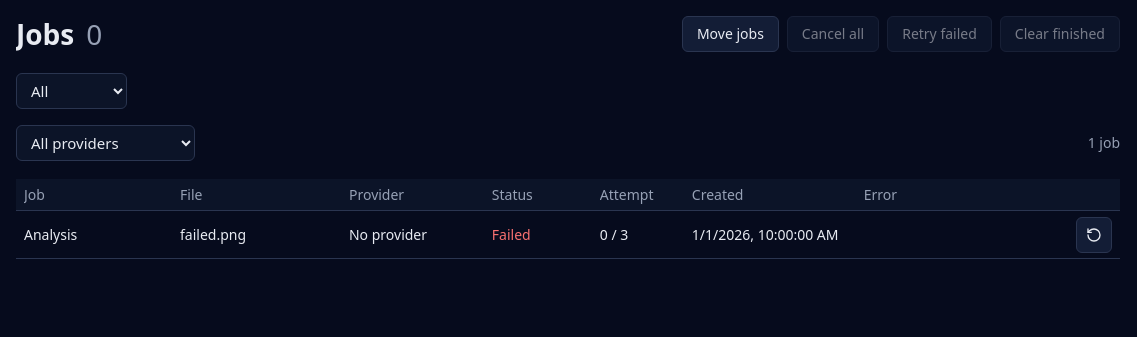
a rejected retry shows the alert above the table
Expected: the text "failed.png" is shown, [180,224,246,244]
Click the button named "Retry job": (1094, 234) [1076,216,1112,252]
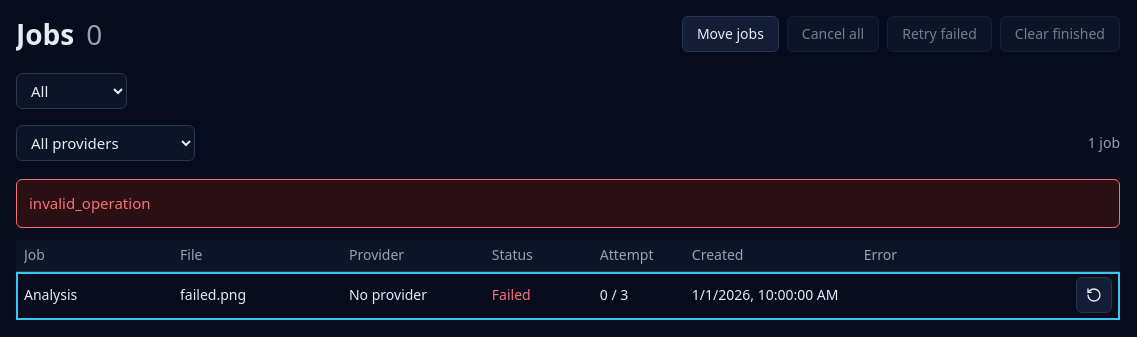
Expected: the message reads "invalid_operation", [29,193,150,213]
